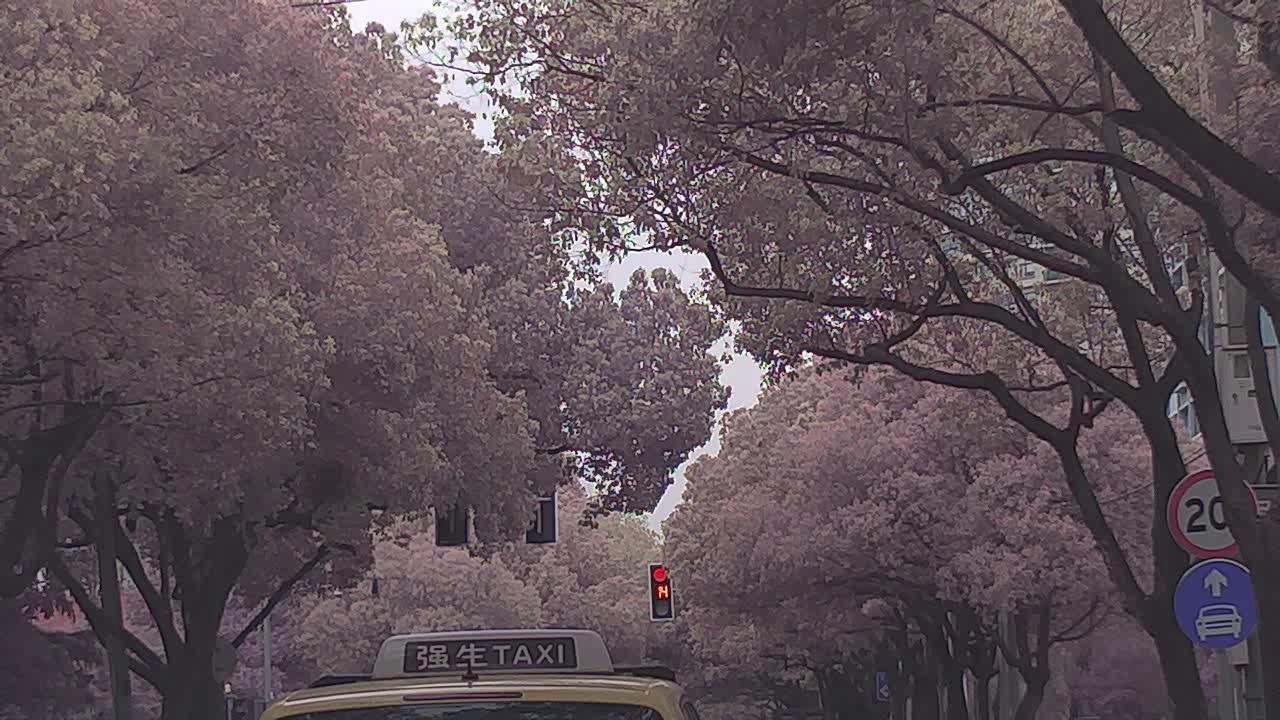traffic_light: (653, 564, 674, 620)
